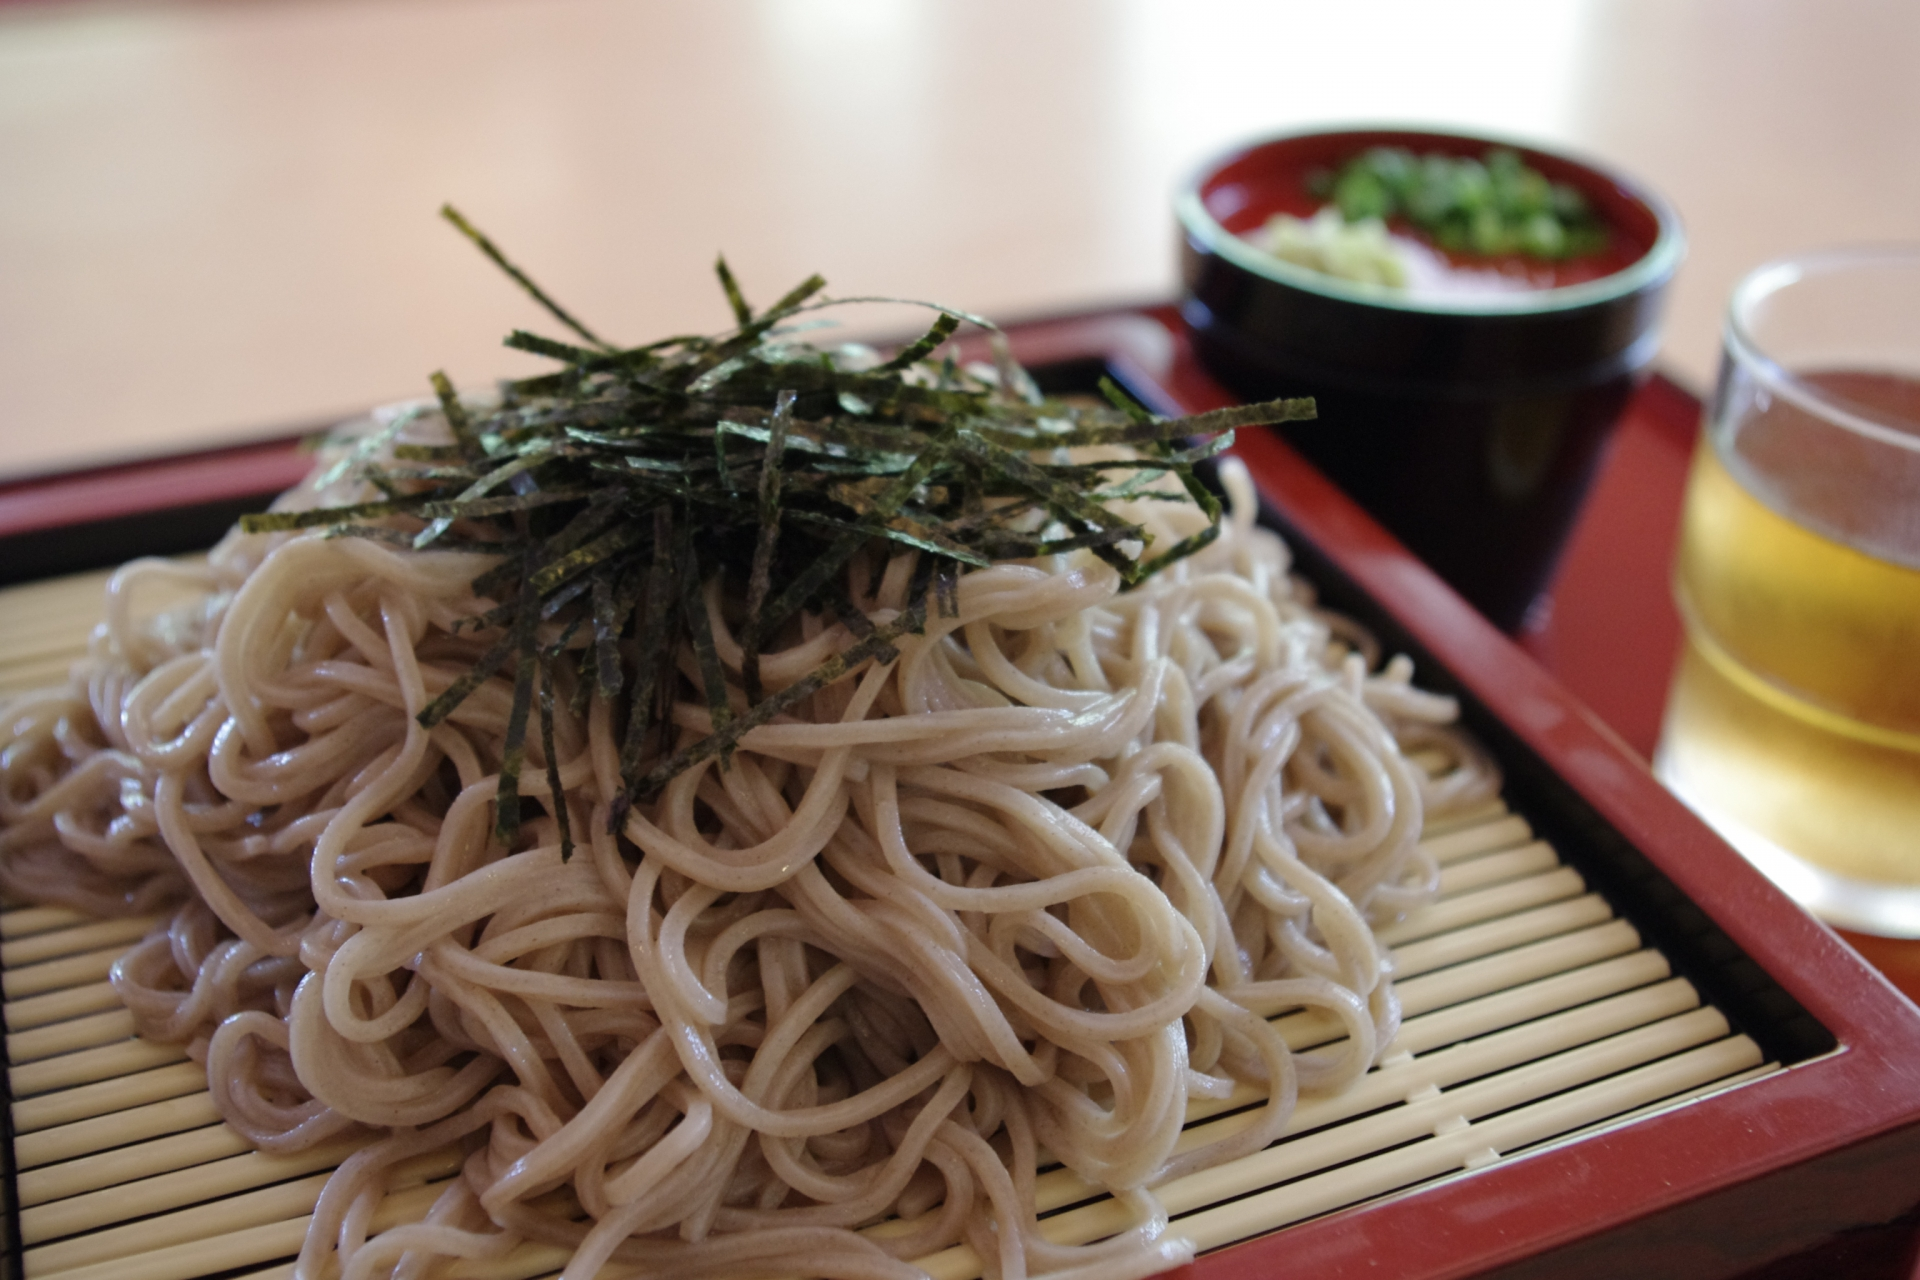Soba: (81, 349, 1460, 1271)
